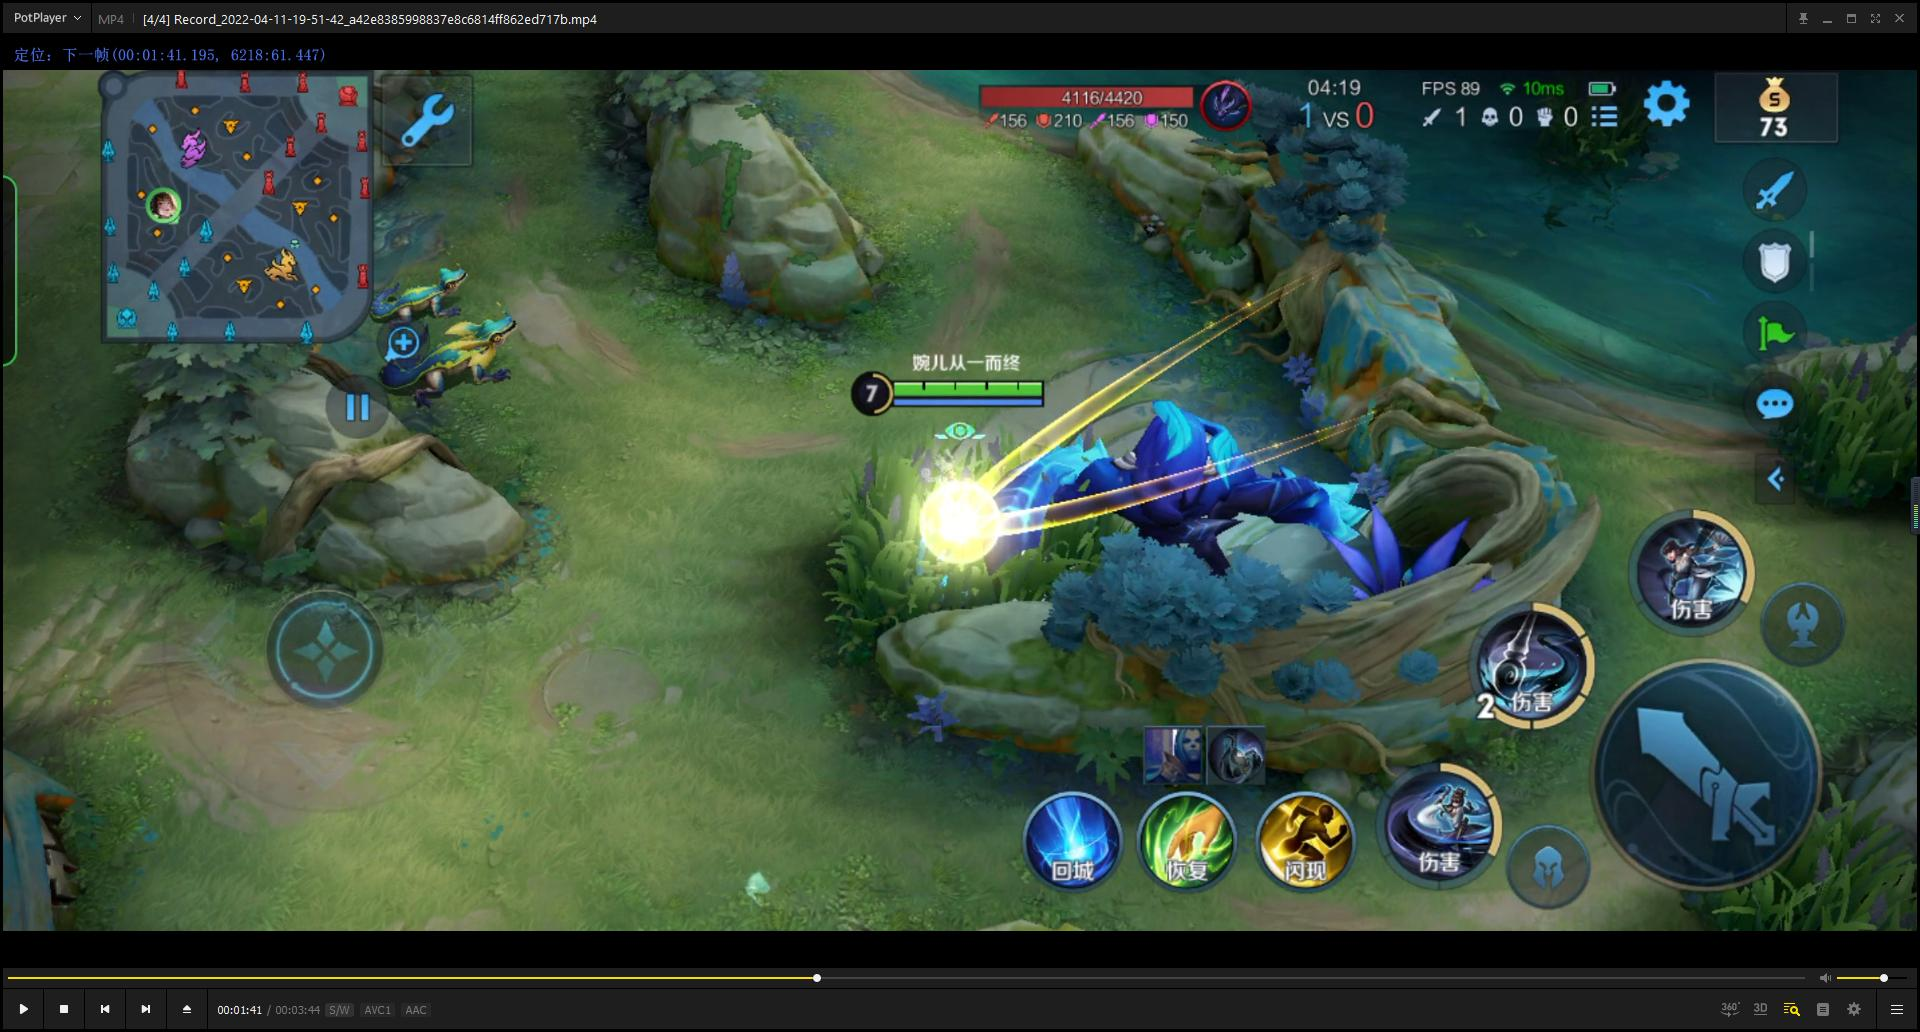Buff: (914, 369, 1374, 587)
Hero: (863, 431, 1036, 618)
Lizard: (367, 311, 520, 411), (351, 261, 503, 330)
